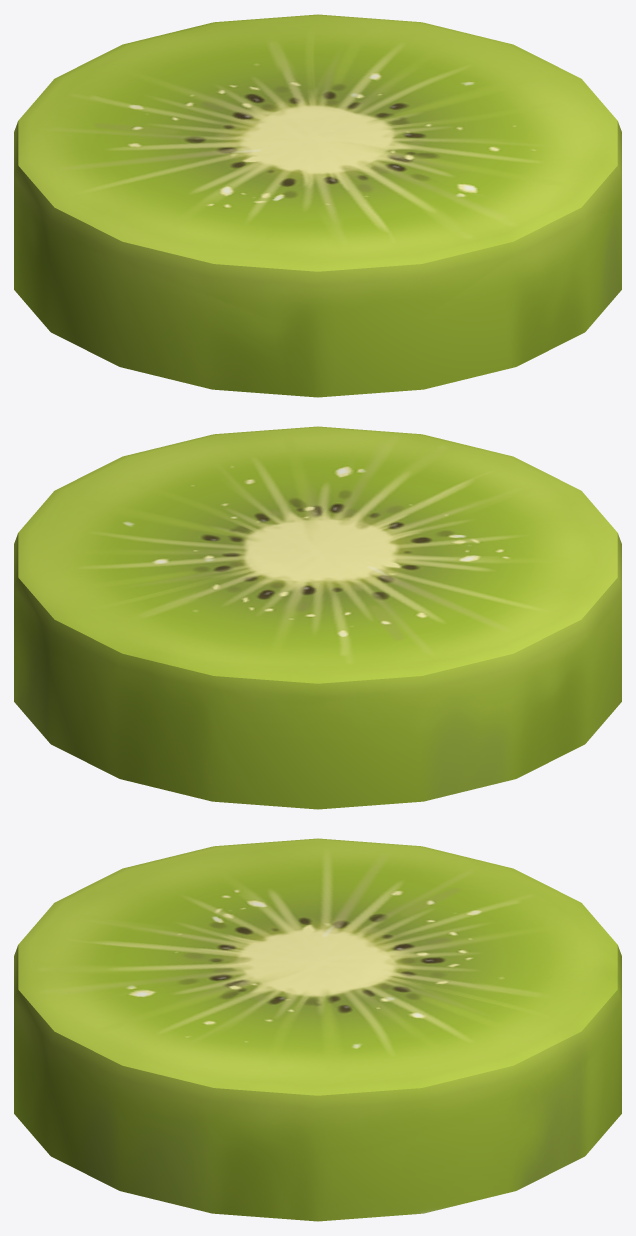
File: kiwi.fbx
3 renders of one model, top to bottom at view 1: azimuth 30°, elevation 25°; view 2: azimuth 150°, elevation 25°; view 3: azimuth 270°, elevation 25°, orthographic.
Visible parts, largest first — view 1: Capsule004; view 2: Capsule004; view 3: Capsule004.
Part boxes in pixels (x1,y1,x2,y2): Capsule004: [14, 14, 621, 397]; Capsule004: [14, 426, 621, 809]; Capsule004: [14, 838, 621, 1221].
Bounding box in the file's own units: 36.06 × 8.24 × 35.51.
Materials: 1 (1 with a texture image).
